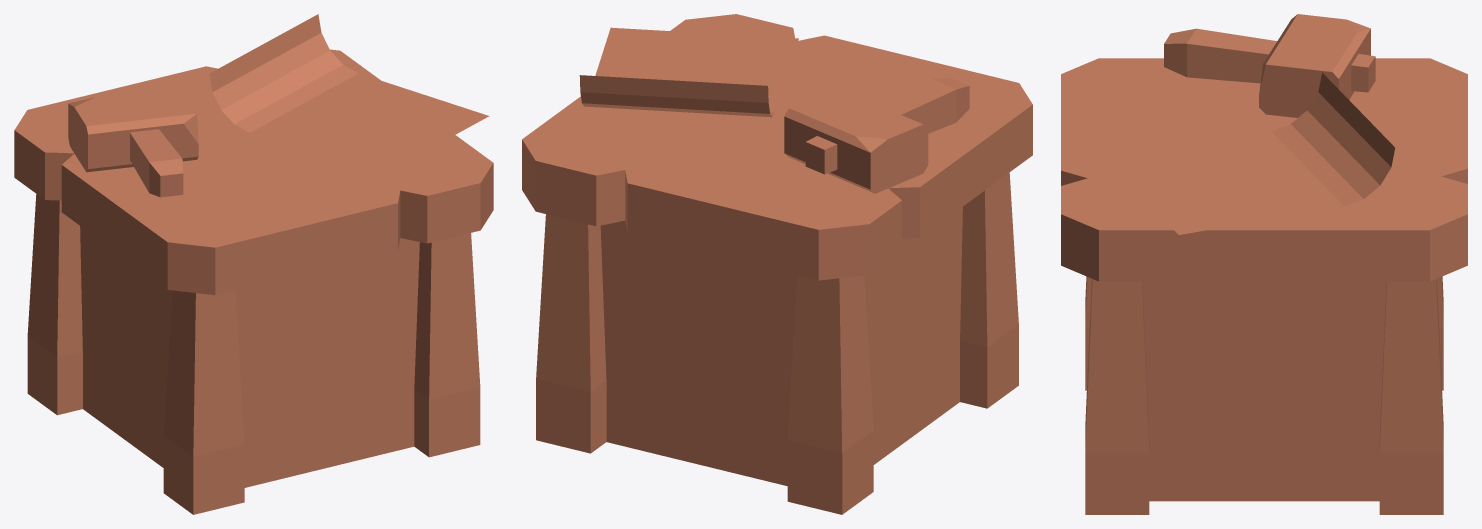
File: workbench.obj
3 renders of one model, left to right at view 1: azimuth 30°, elevation 25°; view 2: azimuth 150°, elevation 25°; view 3: azimuth 270°, elevation 25°, orthographic. The views are drawn at different scales.
Bounding box in the file's own units: 0.3257 × 0.2866 × 0.2957.
